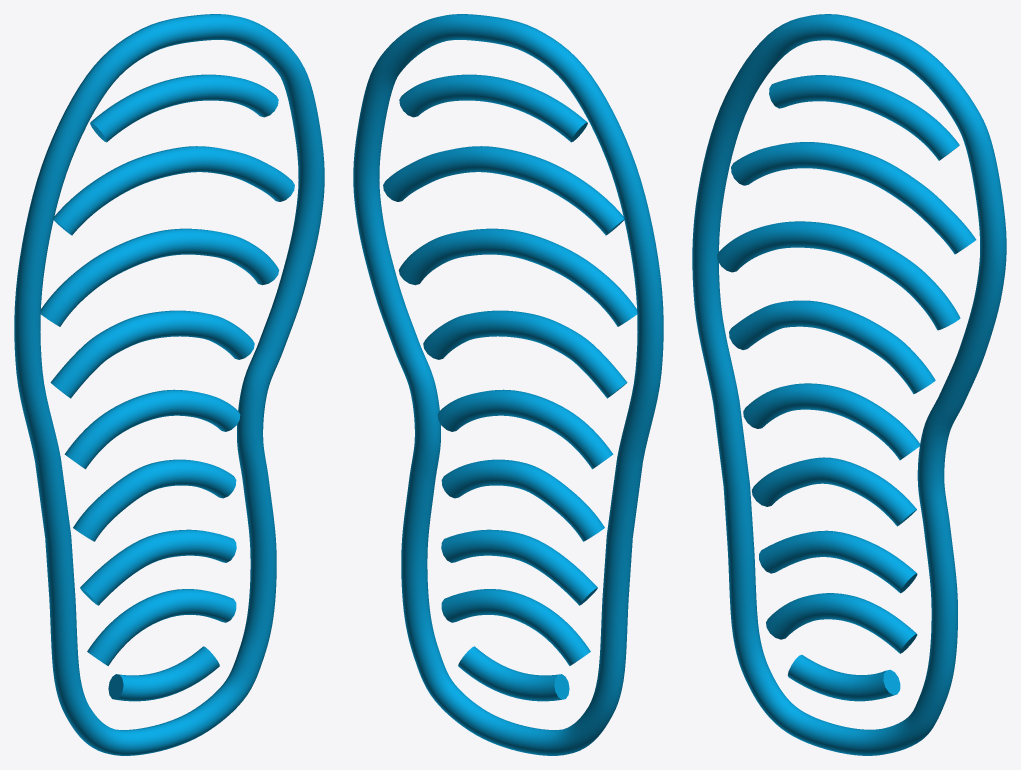
Rendered from shoes.FBX.
The picture shows the model from 3 angles, left to right: view 1: azimuth 30°, elevation 25°; view 2: azimuth 150°, elevation 25°; view 3: azimuth 330°, elevation 25°; orthographic projection.
Parts seen in each view (by area): view 1: Plane084; view 2: Plane084; view 3: Plane084.
Boxes of the visible parts, x1=… form: Plane084: x1=14, y1=14, x2=324, y2=755; Plane084: x1=353, y1=14, x2=663, y2=755; Plane084: x1=692, y1=14, x2=1006, y2=755.
Bounding box in the file's own units: 13.52 × 30.57 × 1.
